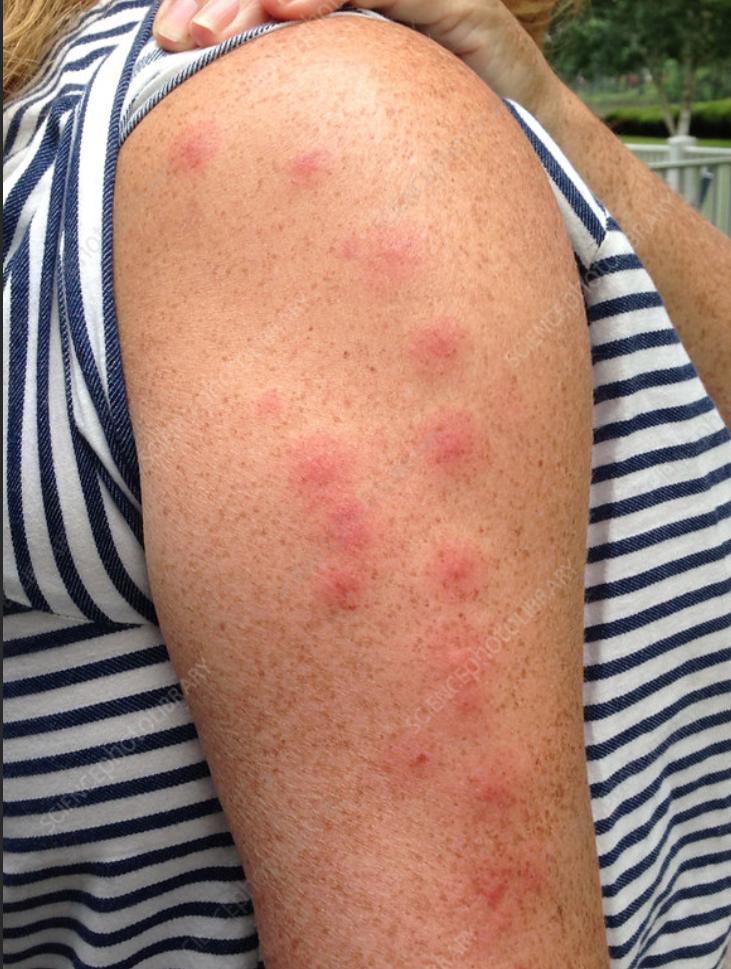Bed-bug: (162, 118, 568, 929)
